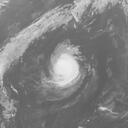cyclone: (50, 42, 84, 89)
